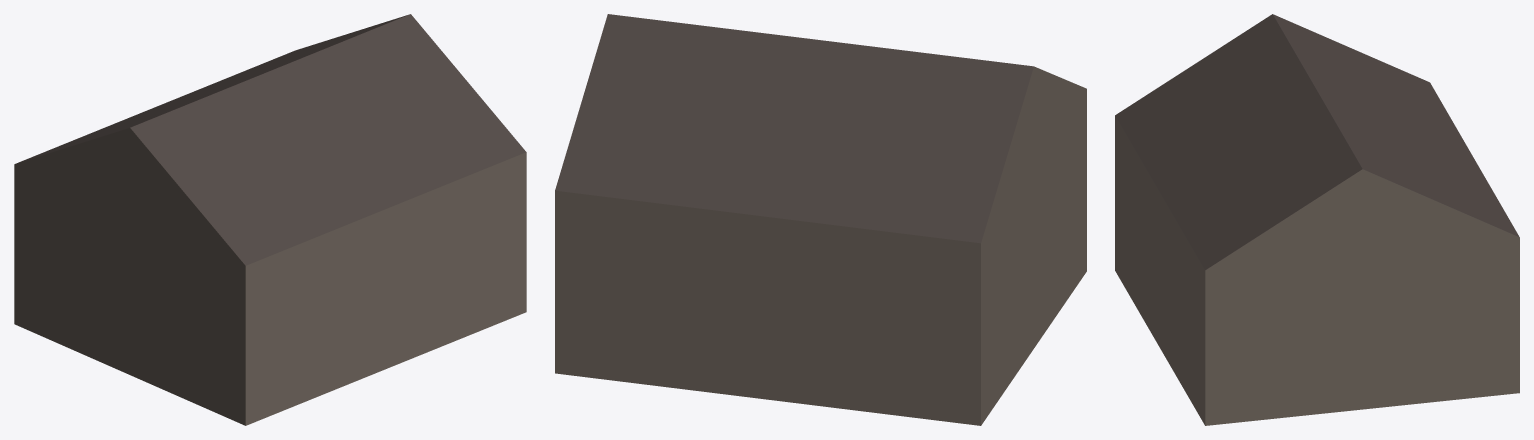
3 views of the same model, side by side, from view 1: azimuth 30°, elevation 25°; view 2: azimuth 150°, elevation 25°; view 3: azimuth 270°, elevation 25° (orthographic). The views are drawn at different scales.
Parts seen in each view (by area): view 1: HP-w1376988681; view 2: HP-w1376988681; view 3: HP-w1376988681.
Boxes of the visible parts, x1,y1,x2,y2 form: HP-w1376988681: (14,14,526,425); HP-w1376988681: (555,14,1086,425); HP-w1376988681: (1115,14,1519,425).
Size of the model in its own units: 15.55 by 9.27 by 14.15.
